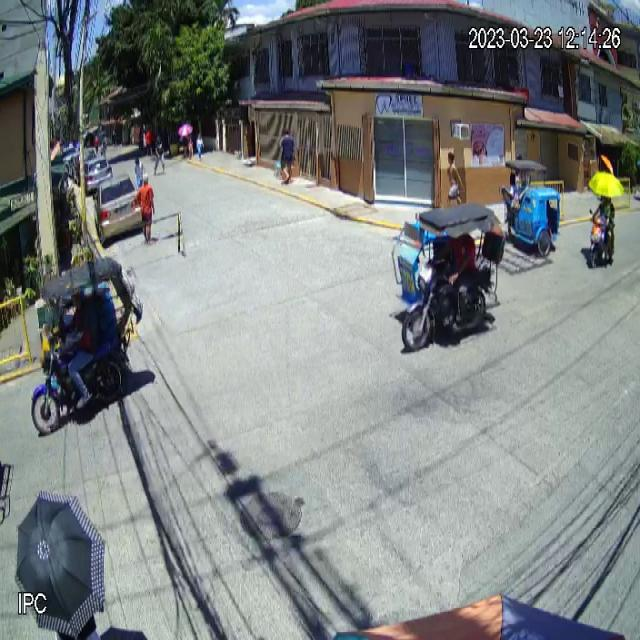Car: (93, 173, 144, 242)
Tricycle: (30, 256, 144, 435), (392, 199, 504, 353), (499, 160, 561, 260)
